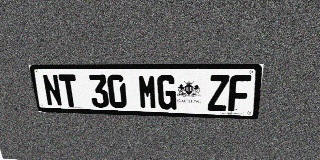0: (107, 74, 127, 108)
3: (89, 74, 109, 108)
F: (228, 75, 251, 112)
G: (157, 75, 176, 110)
M: (138, 75, 157, 109)
N: (42, 74, 63, 107)
T: (58, 74, 80, 107)
Z: (208, 75, 229, 111)
